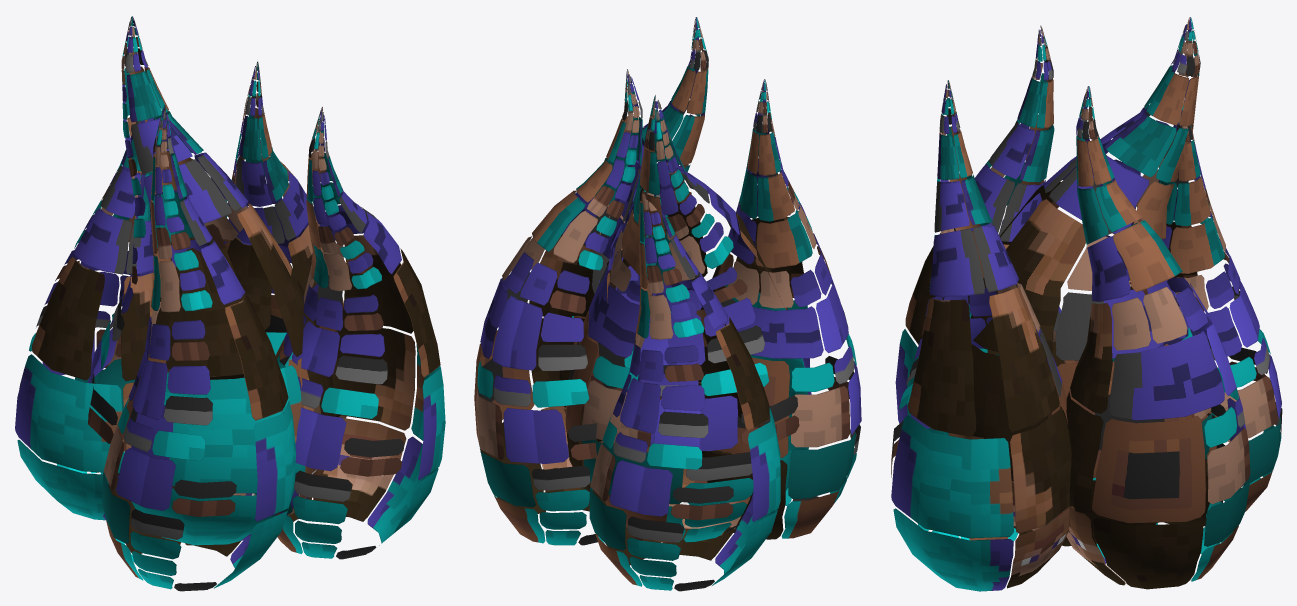
3 views of the same model, side by side, from view 1: azimuth 30°, elevation 25°; view 2: azimuth 150°, elevation 25°; view 3: azimuth 270°, elevation 25° (orthographic). The views are drawn at different scales.
Visible parts, largest first — view 1: flame_NurbsPath.015; view 2: flame_NurbsPath.015; view 3: flame_NurbsPath.015.
Part boxes in pixels (box(x1,y1,x2,y2)): flame_NurbsPath.015: box(15, 16, 445, 591); flame_NurbsPath.015: box(474, 17, 861, 591); flame_NurbsPath.015: box(891, 17, 1282, 591).
Size of the model in its own units: 0.7653 by 1.16 by 0.7988.
